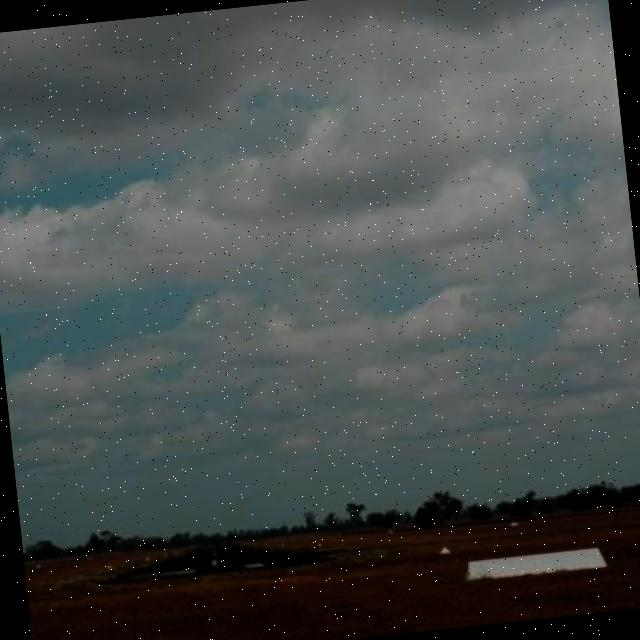Cu: (1, 9, 640, 513)
